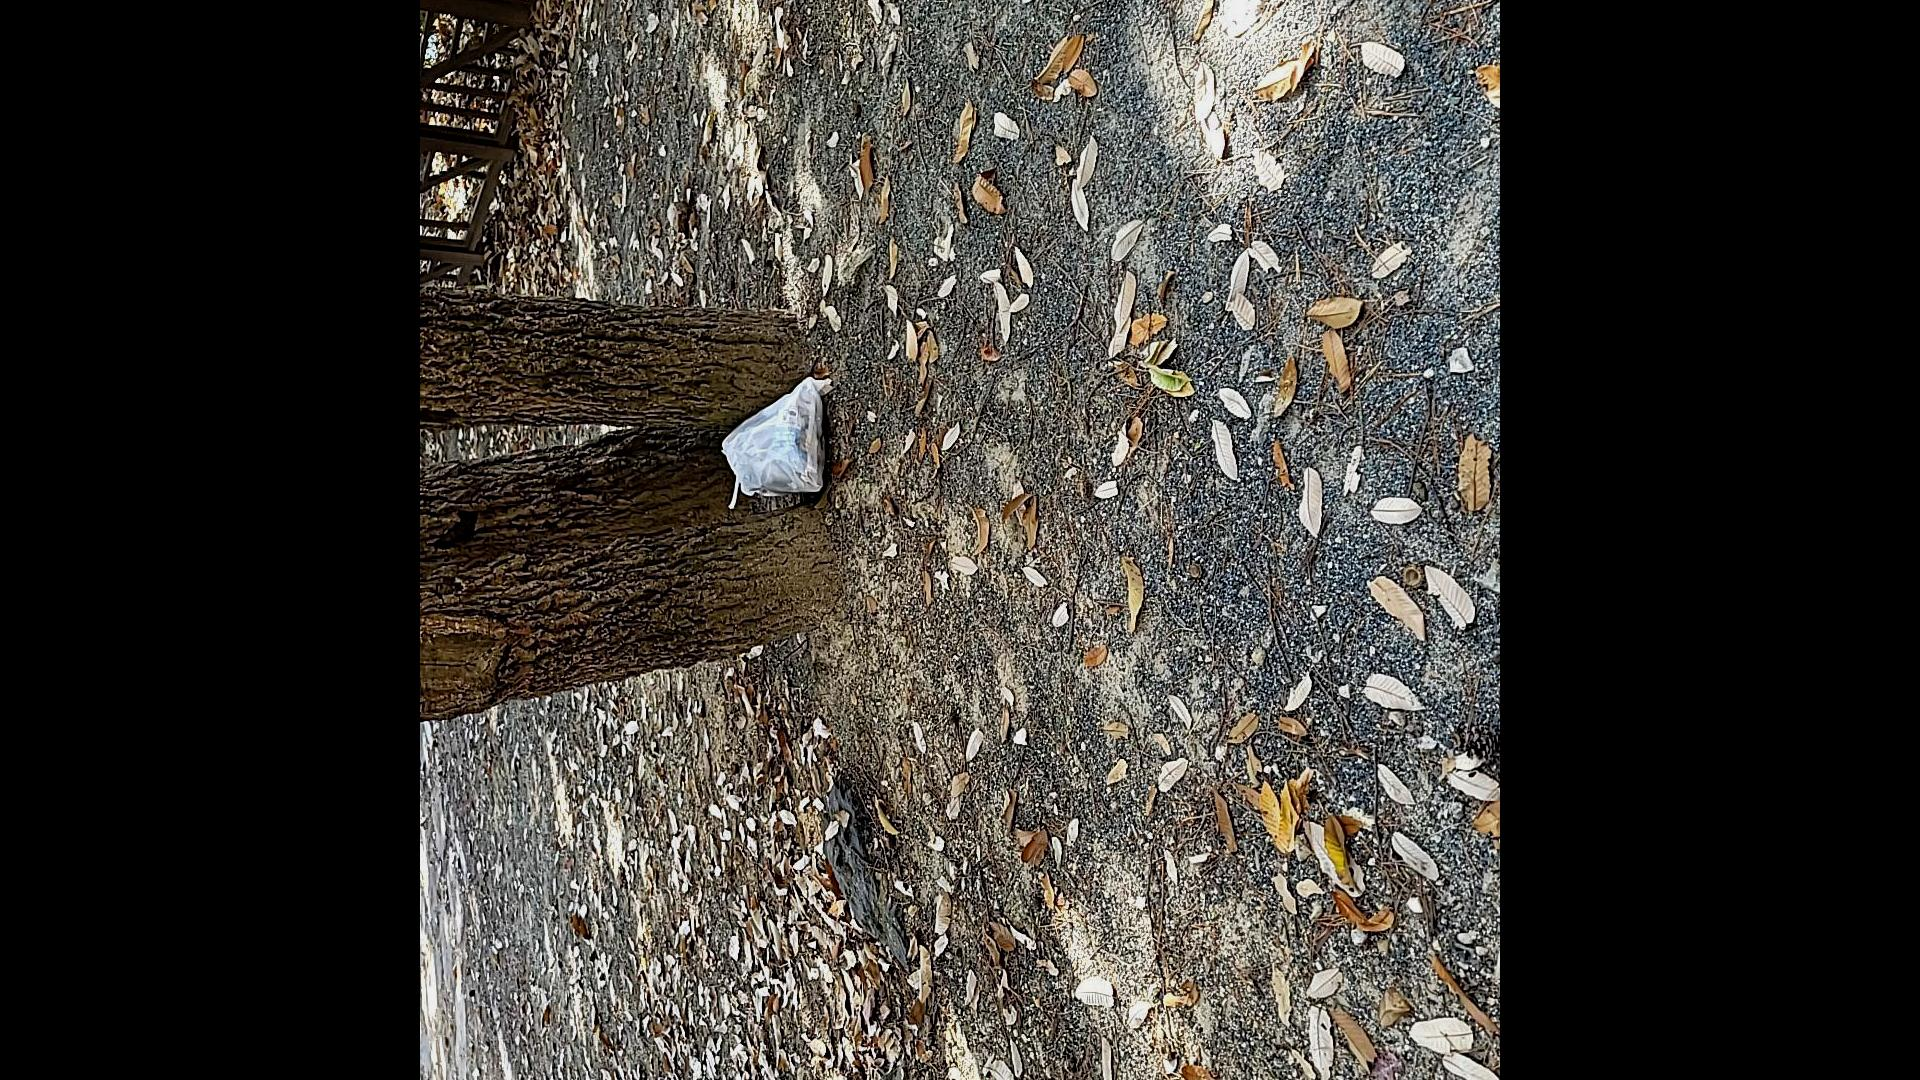white_bag: (711, 371, 836, 521)
